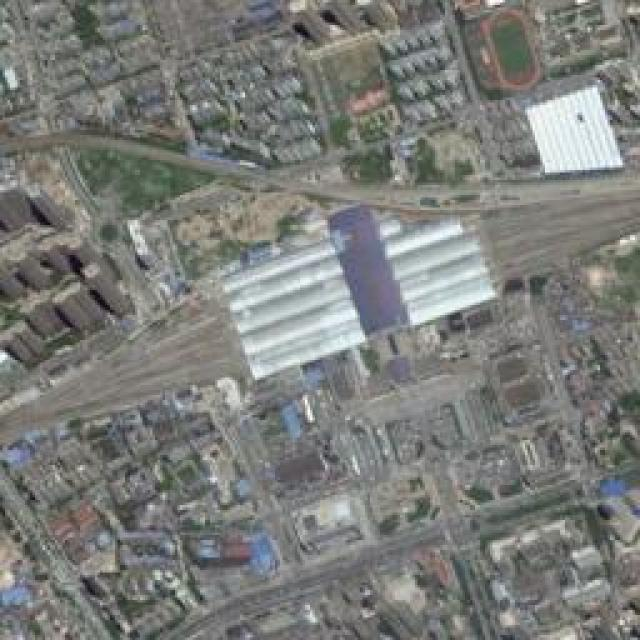City: (0, 0, 638, 638)
Railway: (1, 197, 640, 378)
